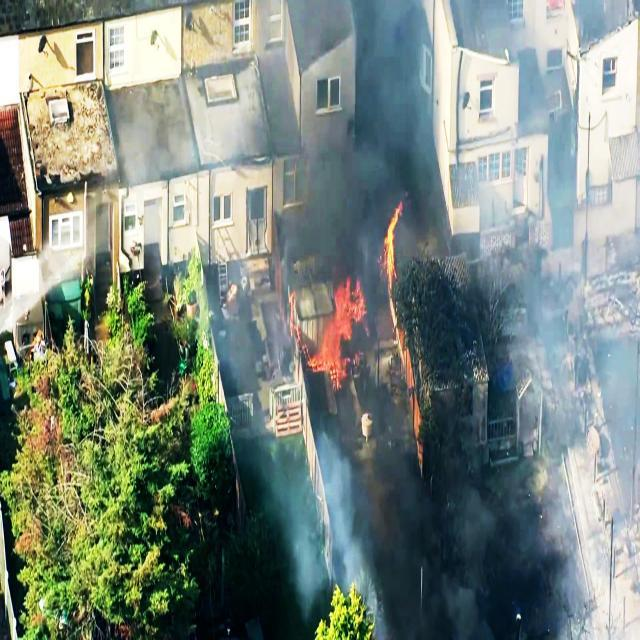Fire: (288, 262, 367, 392), (378, 194, 404, 298)
Smoke: (396, 461, 565, 639), (263, 440, 379, 616), (357, 10, 432, 188)
